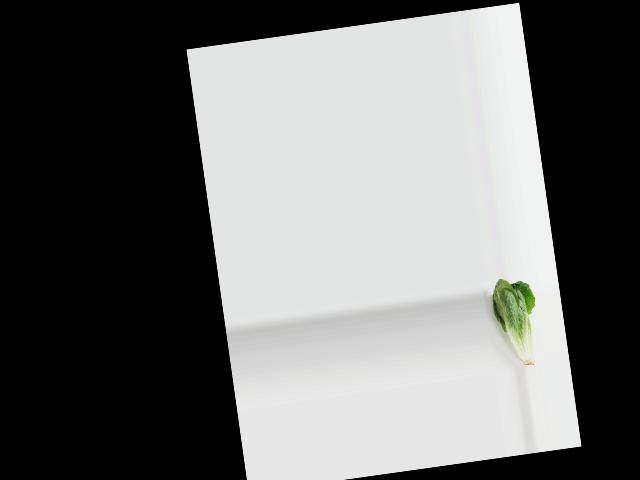lettuce: (487, 274, 545, 373)
